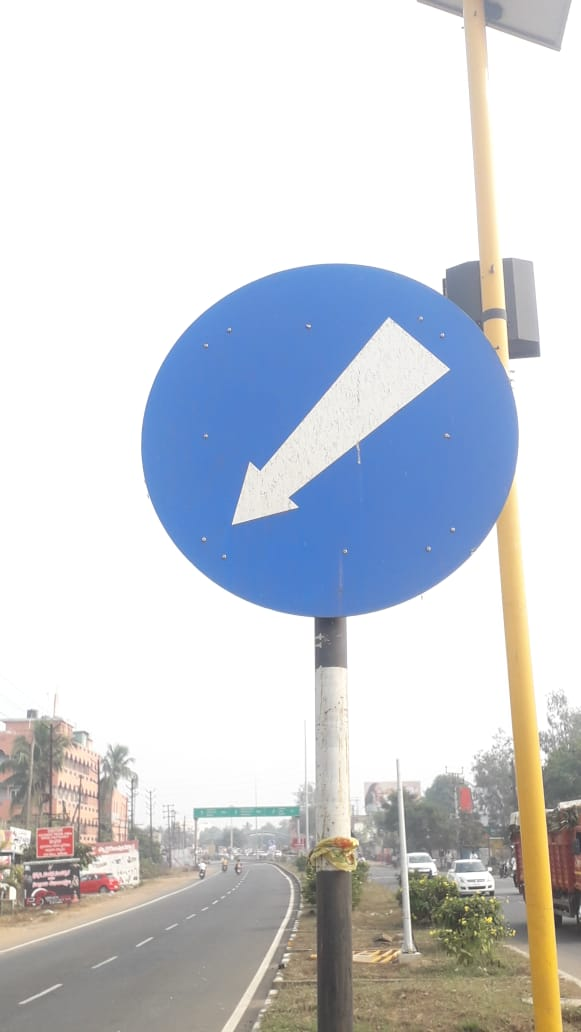go left: (113, 242, 514, 614)
